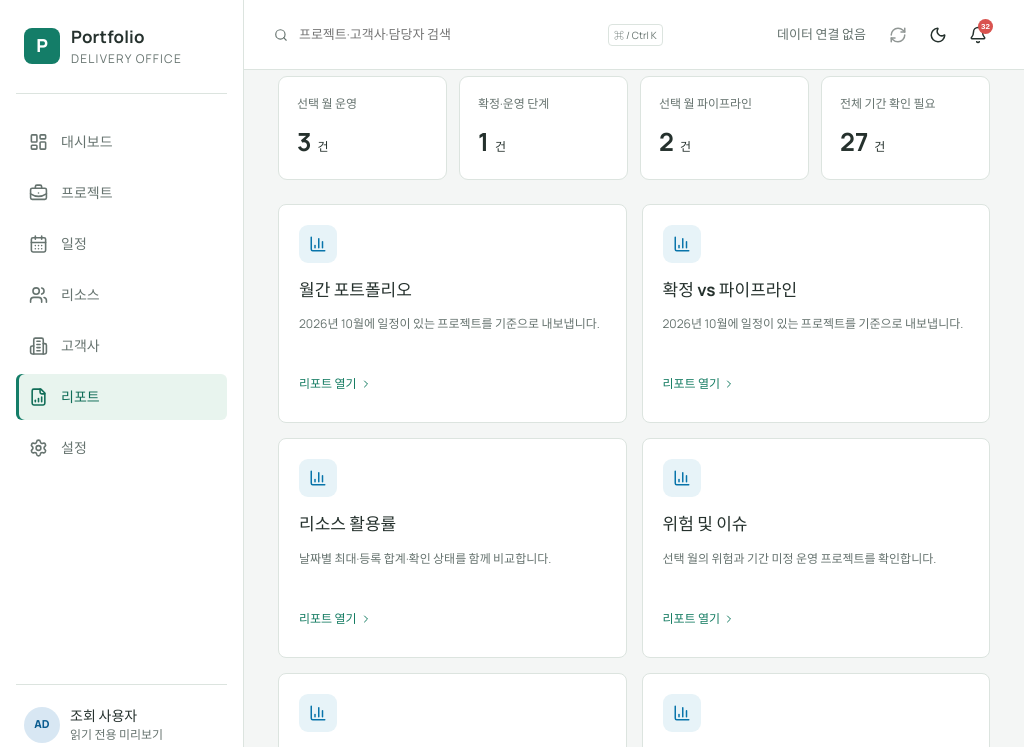
Test case: all primary menu routes › opens a report detail dialog
(page scrolled)
Step 1. Click the button "리포트 열기" below "월간 포트폴리오" → click(335, 384), box [299,366,372,402]
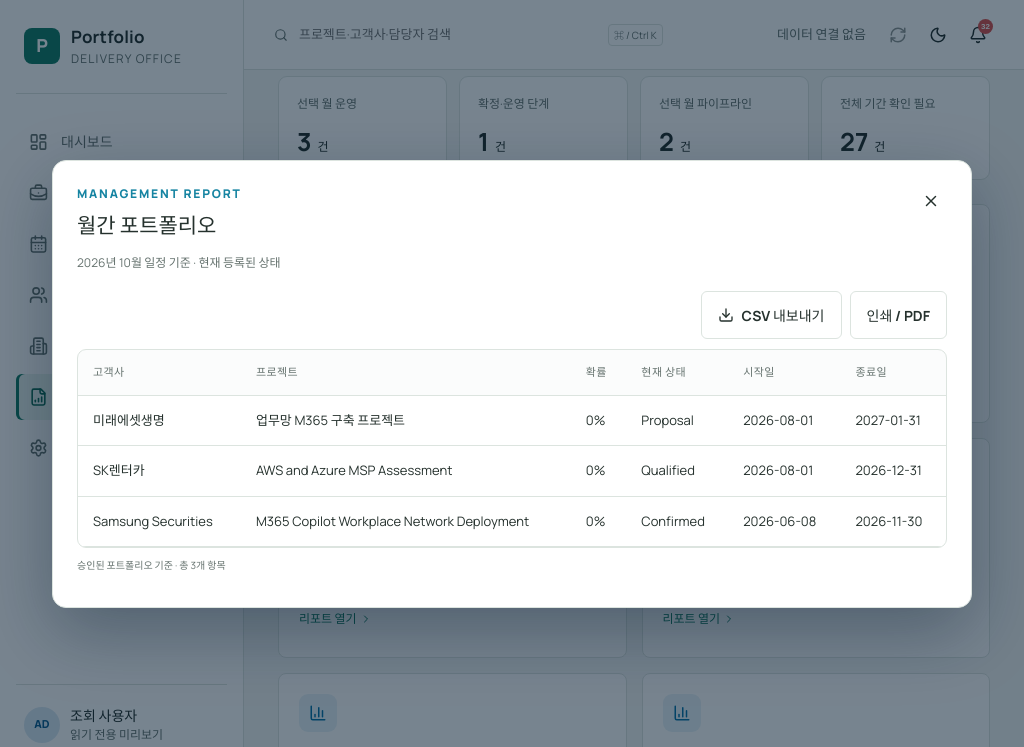
Expected: the dialog "월간 포트폴리오" is shown, [52,160,972,608]
